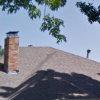Chimney: (3, 23, 24, 80)
